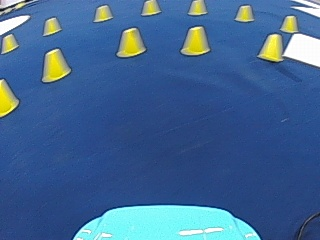cone: (41, 48, 70, 82), (116, 27, 146, 57), (180, 25, 210, 55), (257, 33, 283, 61), (0, 78, 19, 115), (93, 4, 112, 22), (235, 4, 253, 22), (280, 15, 298, 33), (43, 17, 60, 35), (1, 34, 17, 53), (141, 0, 160, 15), (187, 0, 206, 15)
